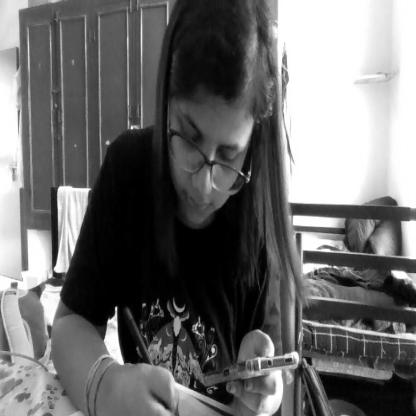Normal: (162, 0, 272, 244)
